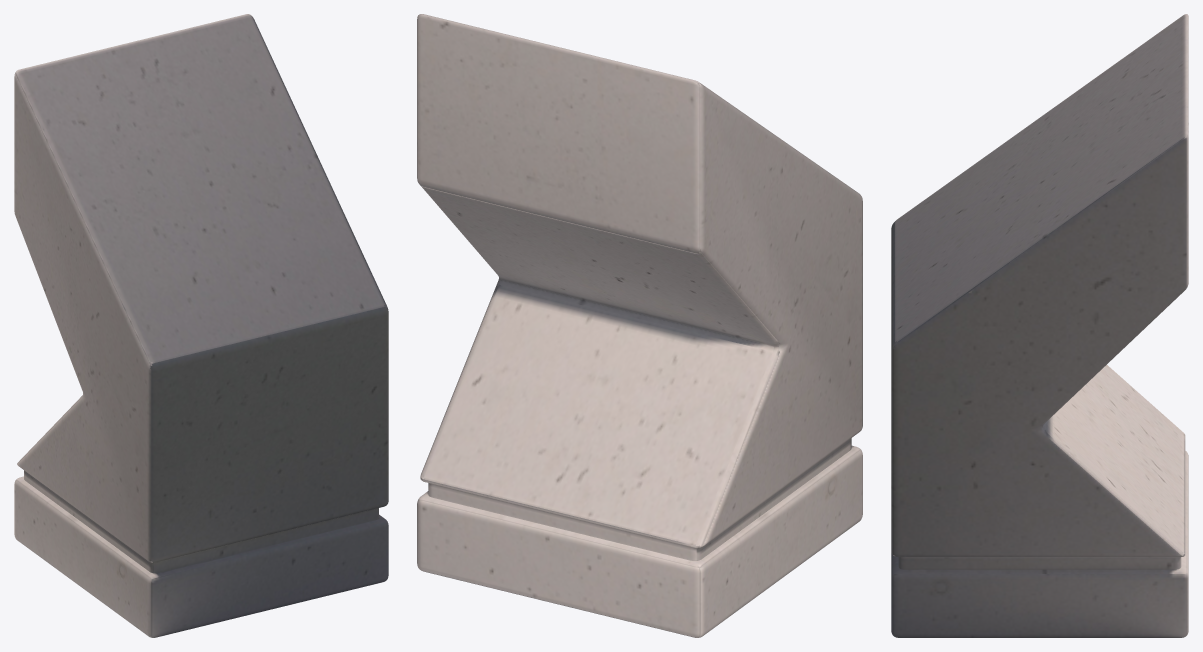
Rendered from w-knight.glb.
3 views of the same model, side by side, from view 1: azimuth 30°, elevation 25°; view 2: azimuth 150°, elevation 25°; view 3: azimuth 270°, elevation 25° (orthographic). The views are drawn at different scales.
Parts seen in each view (by area): view 1: w-knight; view 2: w-knight; view 3: w-knight.
Boxes of the visible parts, bbox=[...] form: w-knight: bbox=[14, 14, 388, 637]; w-knight: bbox=[417, 14, 862, 637]; w-knight: bbox=[891, 14, 1188, 637].
Bounding box in the file's own units: 0.508 × 0.9477 × 0.508.
1 material, 1 textured.
